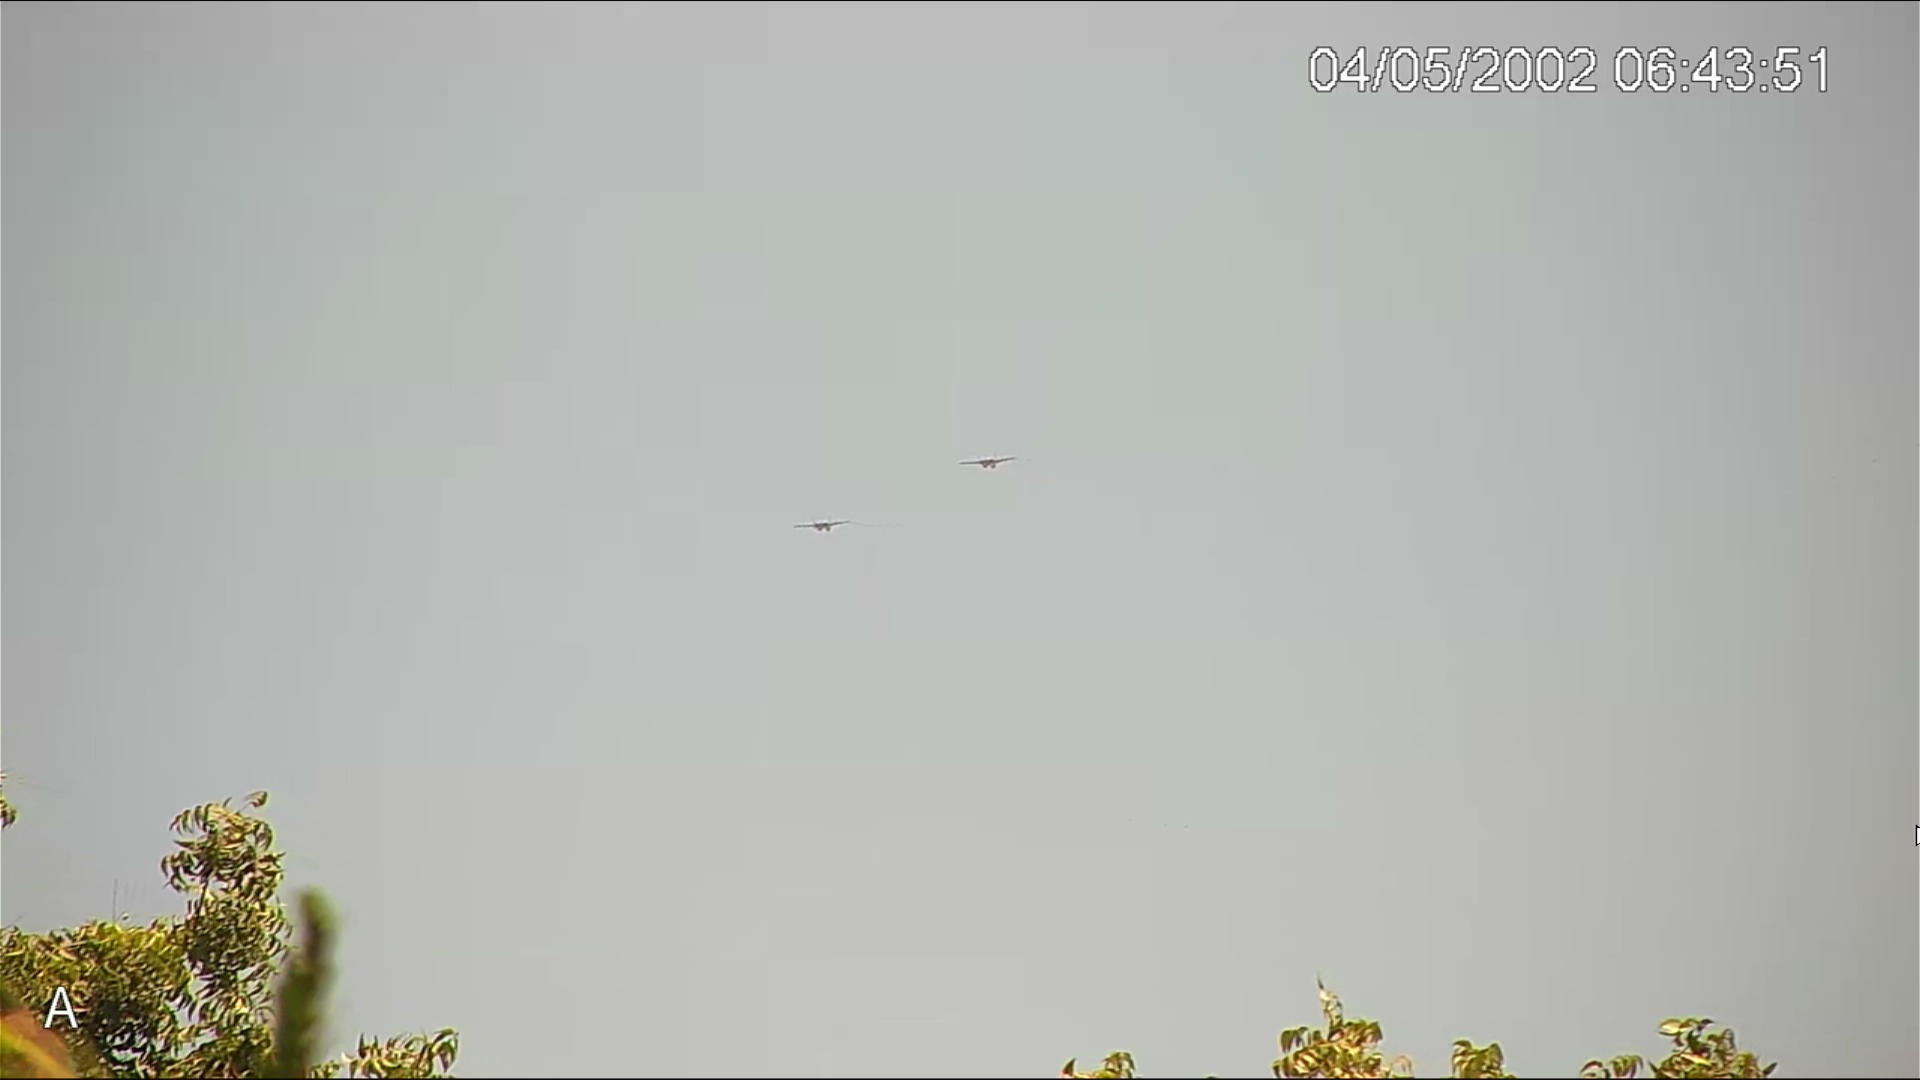SU_30: (955, 451, 1015, 472), (793, 520, 855, 533)
